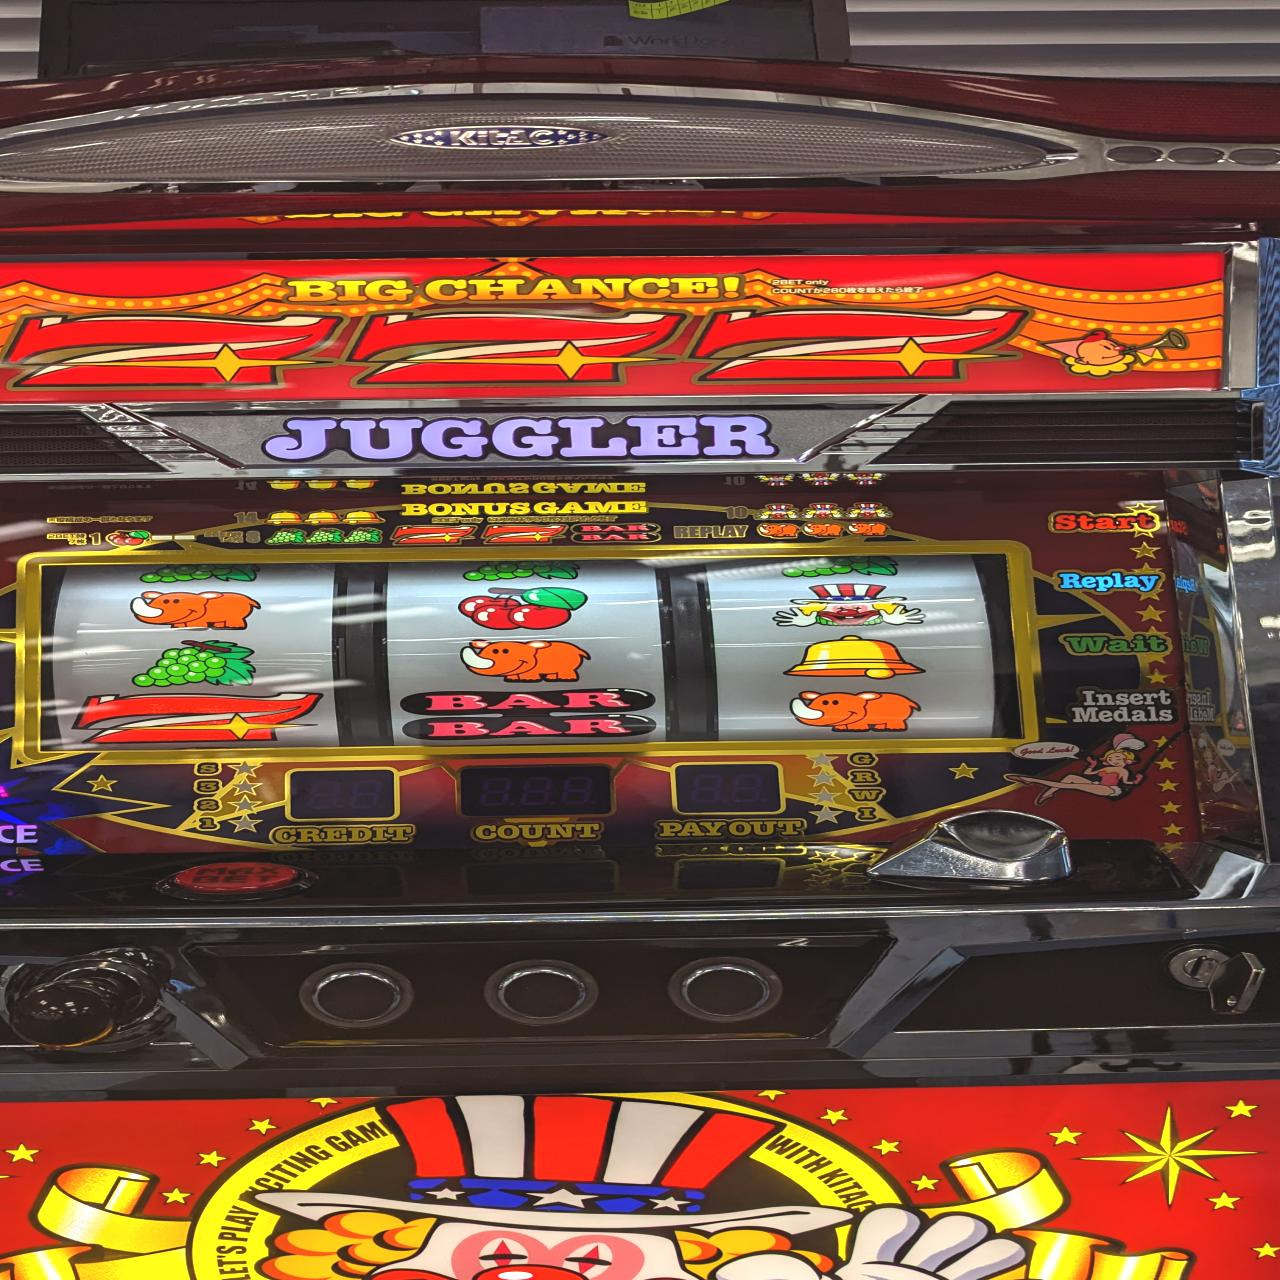7: (73, 694, 326, 744)
Display: (19, 551, 1037, 748)
bar: (403, 687, 654, 741)
bell: (785, 635, 928, 681)
cherry: (455, 586, 588, 631)
clown: (771, 581, 927, 628)
grape: (129, 639, 274, 689)
rhino: (459, 636, 592, 686), (789, 689, 922, 734), (128, 590, 263, 631)
